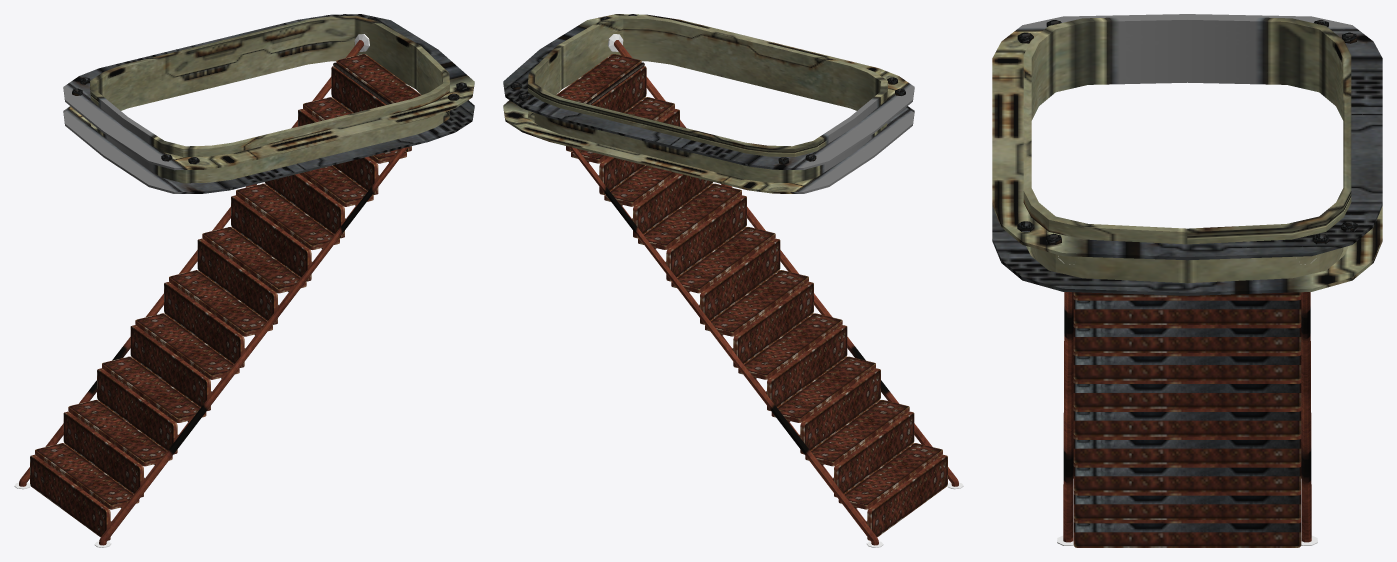
File: metal_flip.dae
3 views of the same model, side by side, from view 1: azimuth 30°, elevation 25°; view 2: azimuth 150°, elevation 25°; view 3: azimuth 270°, elevation 25° (orthographic). The views are drawn at different scales.
Visible parts, largest first — view 1: polySurface947, polySurface948; view 2: polySurface947, polySurface948; view 3: polySurface948, polySurface947.
Boxes of the visible parts, box(x1,y1,x2,y2) form: polySurface947: box(14, 34, 421, 547); polySurface948: box(63, 14, 474, 193); polySurface947: box(556, 34, 963, 547); polySurface948: box(503, 14, 914, 193); polySurface948: box(992, 14, 1382, 295); polySurface947: box(1057, 256, 1317, 547).
Size of the model in its own units: 4.57 by 4.37 by 2.72.
